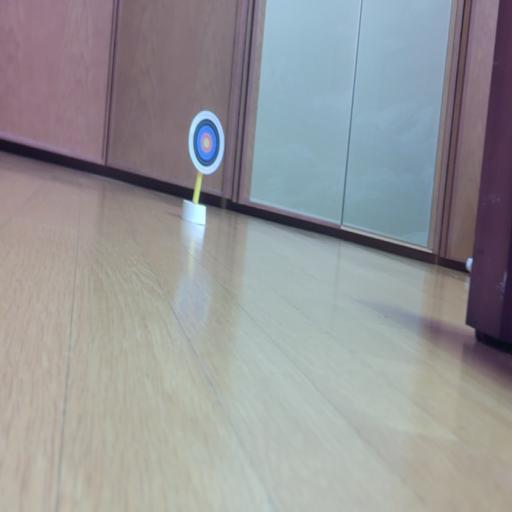target: (189, 110, 224, 175)
